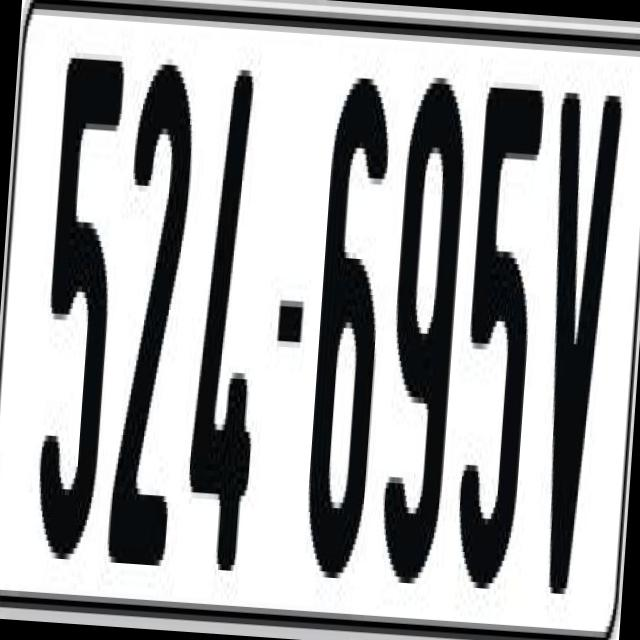2: (106, 51, 201, 566)
4: (180, 56, 286, 584)
5: (448, 81, 548, 596), (33, 41, 134, 550)
6: (298, 76, 390, 596)
9: (372, 76, 476, 620)
V: (522, 74, 624, 589)
